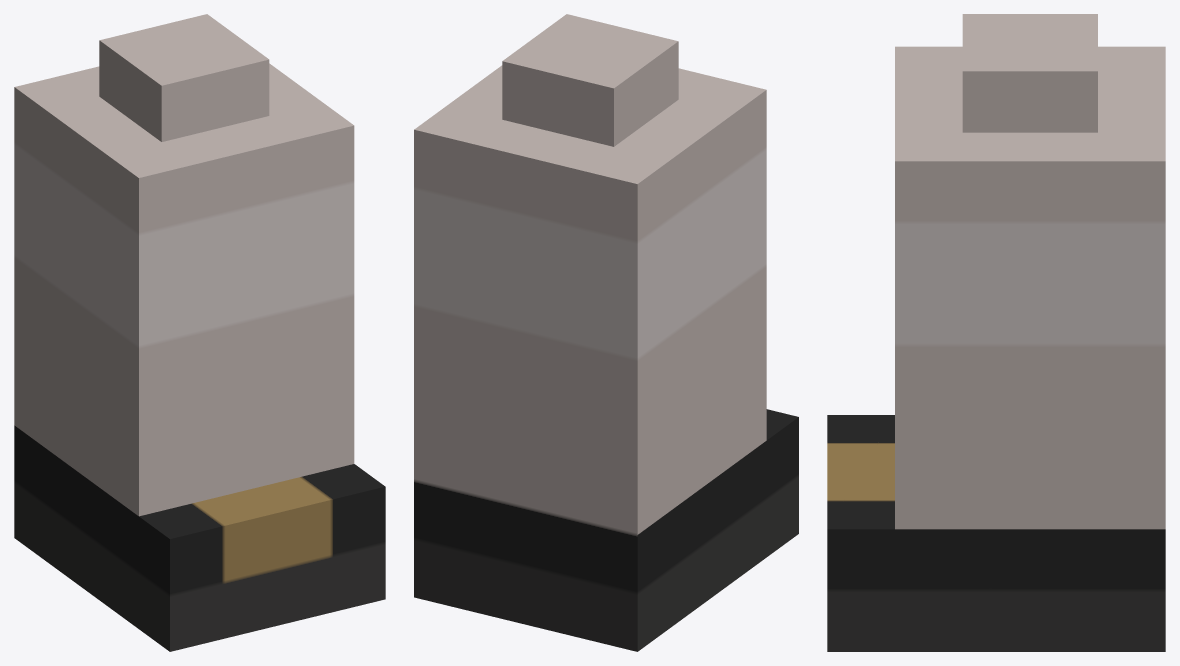
The model's file is Knee040.fbx.
3 views of the same model, side by side, from view 1: azimuth 30°, elevation 25°; view 2: azimuth 150°, elevation 25°; view 3: azimuth 270°, elevation 25° (orthographic). The views are drawn at different scales.
Visible parts, largest first — view 1: Knee040; view 2: Knee040; view 3: Knee040.
Part boxes in pixels (left/top/right/bottom): Knee040: left=14, top=14, right=385, bottom=651; Knee040: left=414, top=14, right=798, bottom=651; Knee040: left=827, top=14, right=1165, bottom=651.
Size of the model in its own units: 4 by 9 by 5.
